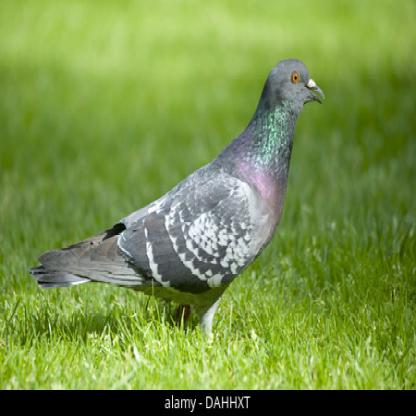Flying Rat: (32, 61, 327, 342)
